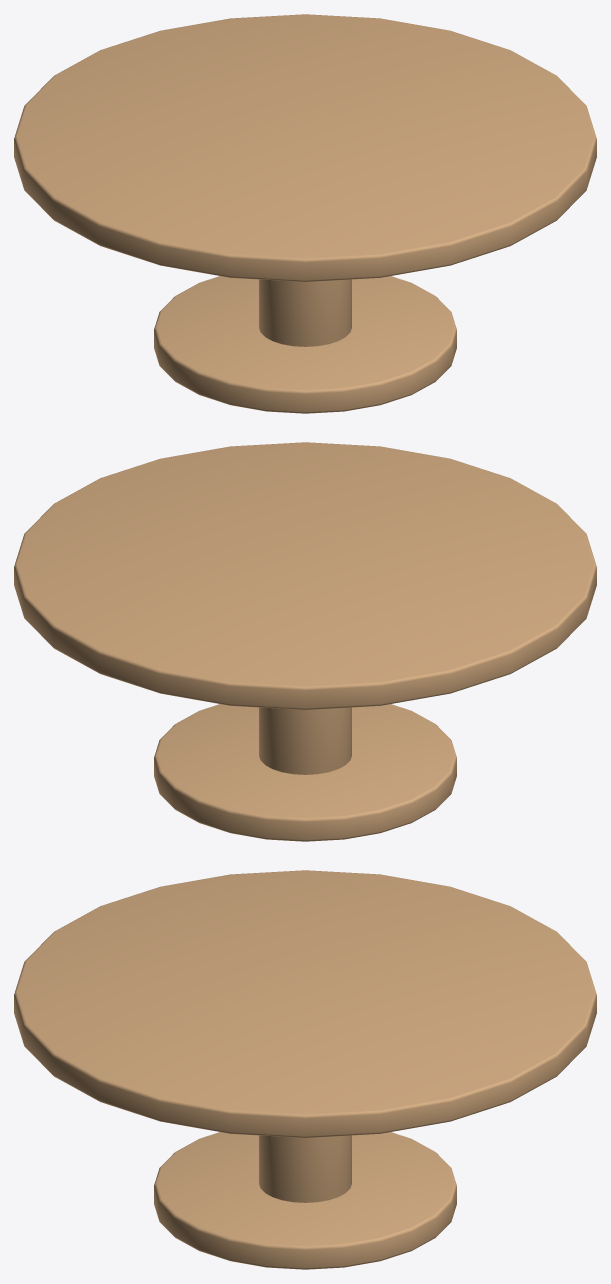
File: meeting-table-round.glb
The picture shows the model from 3 angles, top to bottom: view 1: azimuth 30°, elevation 25°; view 2: azimuth 150°, elevation 25°; view 3: azimuth 270°, elevation 25°; orthographic projection.
Parts seen in each view (by area): view 1: top.004, base, pedestal; view 2: top.004, base, pedestal; view 3: top.004, base, pedestal.
Boxes of the visible parts, bbox=[...] form: top.004: bbox=[14, 14, 596, 281]; base: bbox=[154, 276, 456, 413]; pedestal: bbox=[259, 279, 351, 346]; top.004: bbox=[14, 442, 596, 709]; base: bbox=[154, 704, 456, 841]; pedestal: bbox=[259, 707, 351, 774]; top.004: bbox=[14, 870, 596, 1137]; base: bbox=[154, 1132, 456, 1269]; pedestal: bbox=[259, 1135, 351, 1202].
Size of the model in its own units: 1.8 by 0.73 by 1.8.
